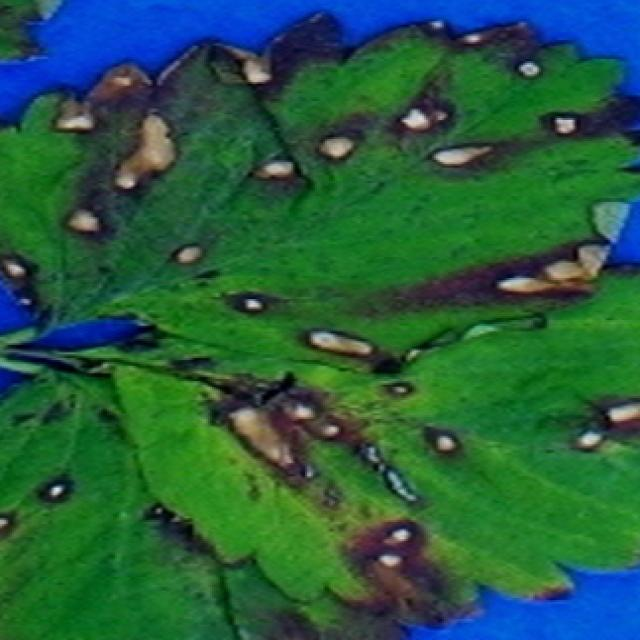Leaf Spot: (0, 7, 640, 377), (46, 260, 640, 630), (0, 369, 411, 640)
